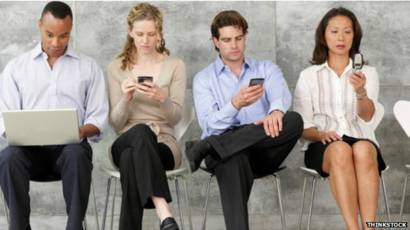person: (297, 5, 390, 138), (193, 11, 288, 125), (111, 3, 188, 127), (23, 5, 101, 125)
